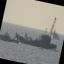fishing boat: (11, 8, 64, 54)
